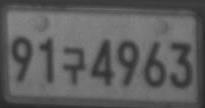1: (36, 37, 60, 82)
3: (170, 42, 193, 88)
4: (91, 38, 115, 86)
6: (143, 41, 165, 87)
9: (10, 35, 33, 82), (116, 39, 139, 85)
구: (62, 46, 86, 84)
